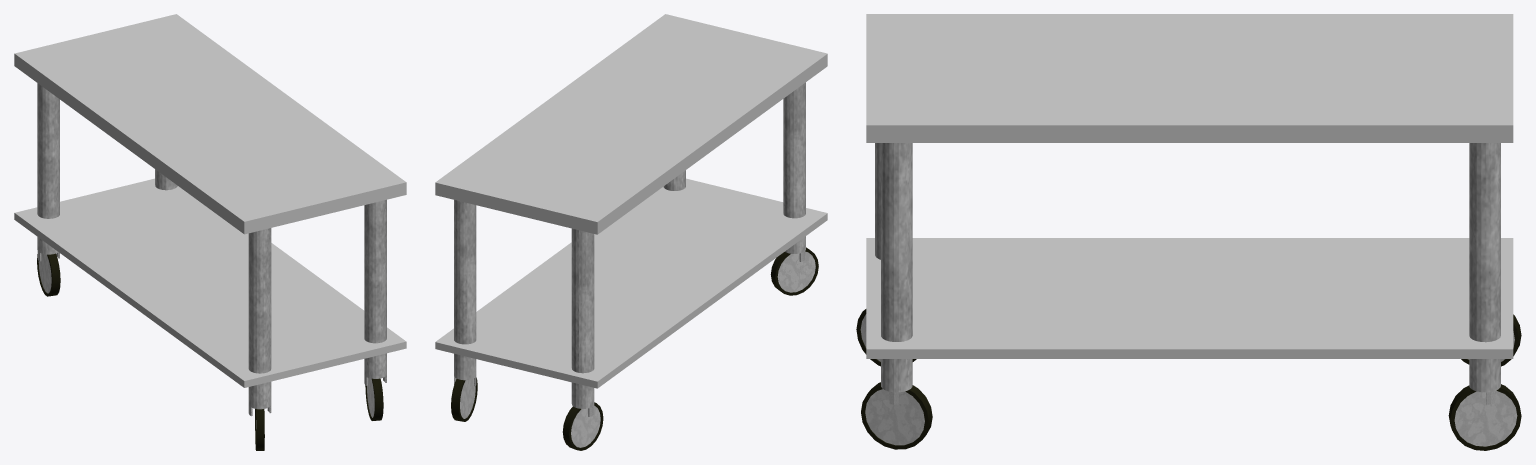
The model's file is Moving table big.fbx.
3 renders of one model, left to right at view 1: azimuth 30°, elevation 25°; view 2: azimuth 150°, elevation 25°; view 3: azimuth 270°, elevation 25°, orthographic. The views are drawn at different scales.
Parts seen in each view (by area): view 1: pasted__pCube158, pasted__pCube160, pasted__pasted__pCylinder89, pasted__pasted__pCylinder96, pasted__pasted__pCylinder92, pasted__pasted__pCylinder91, pasted__pasted__pCylinder95, pasted__pasted__pCylinder90; view 2: pasted__pCube158, pasted__pCube160, pasted__pasted__pCylinder92, pasted__pasted__pCylinder94, pasted__pasted__pCylinder89, pasted__pasted__pCylinder90, pasted__pasted__pCylinder91, pasted__pasted__pCylinder93; view 3: pasted__pCube158, pasted__pCube160, pasted__pasted__pCylinder96, pasted__pasted__pCylinder94, pasted__pasted__pCylinder93, pasted__pasted__pCylinder95, pasted__pasted__pCylinder89.
Part boxes in pixels (left/top/right/bottom): pasted__pCube158: left=14, top=14, right=406, bottom=234; pasted__pCube160: left=14, top=178, right=406, bottom=387; pasted__pasted__pCylinder89: left=248, top=228, right=271, bottom=416; pasted__pasted__pCylinder96: left=364, top=199, right=386, bottom=385; pasted__pasted__pCylinder92: left=37, top=83, right=59, bottom=261; pasted__pasted__pCylinder91: left=37, top=253, right=60, bottom=296; pasted__pasted__pCylinder95: left=365, top=378, right=383, bottom=420; pasted__pasted__pCylinder90: left=255, top=409, right=264, bottom=450; pasted__pCube158: left=435, top=14, right=827, bottom=234; pasted__pCube160: left=435, top=178, right=827, bottom=388; pasted__pasted__pCylinder92: left=571, top=228, right=594, bottom=416; pasted__pasted__pCylinder94: left=454, top=200, right=476, bottom=386; pasted__pasted__pCylinder89: left=783, top=82, right=805, bottom=261; pasted__pasted__pCylinder90: left=770, top=247, right=818, bottom=295; pasted__pasted__pCylinder91: left=562, top=402, right=603, bottom=450; pasted__pasted__pCylinder93: left=451, top=377, right=477, bottom=421; pasted__pCube158: left=866, top=14, right=1513, bottom=142; pasted__pCube160: left=866, top=238, right=1513, bottom=358; pasted__pasted__pCylinder96: left=881, top=143, right=912, bottom=404; pasted__pasted__pCylinder94: left=1469, top=143, right=1500, bottom=404; pasted__pasted__pCylinder93: left=1448, top=384, right=1521, bottom=450; pasted__pasted__pCylinder95: left=861, top=382, right=932, bottom=449; pasted__pasted__pCylinder89: left=875, top=143, right=880, bottom=259.
Size of the model in its own units: 0.8072 by 1.14 by 2.04.
Materials: 2 (2 with a texture image).
